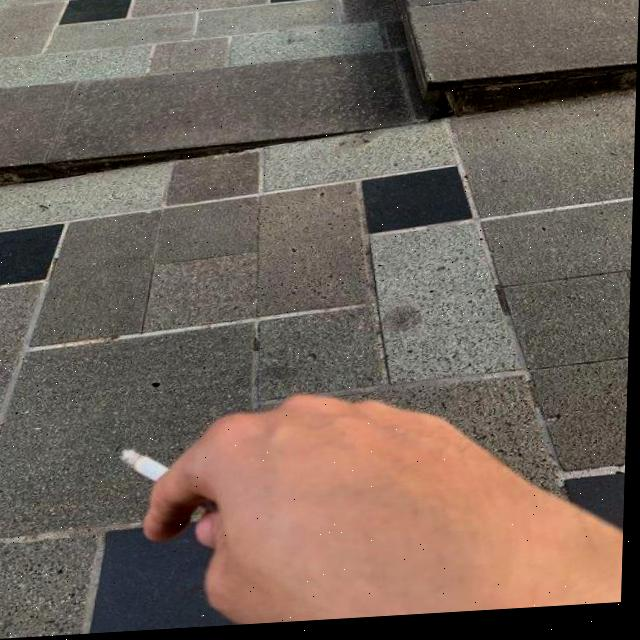cigarette: (121, 446, 173, 485)
